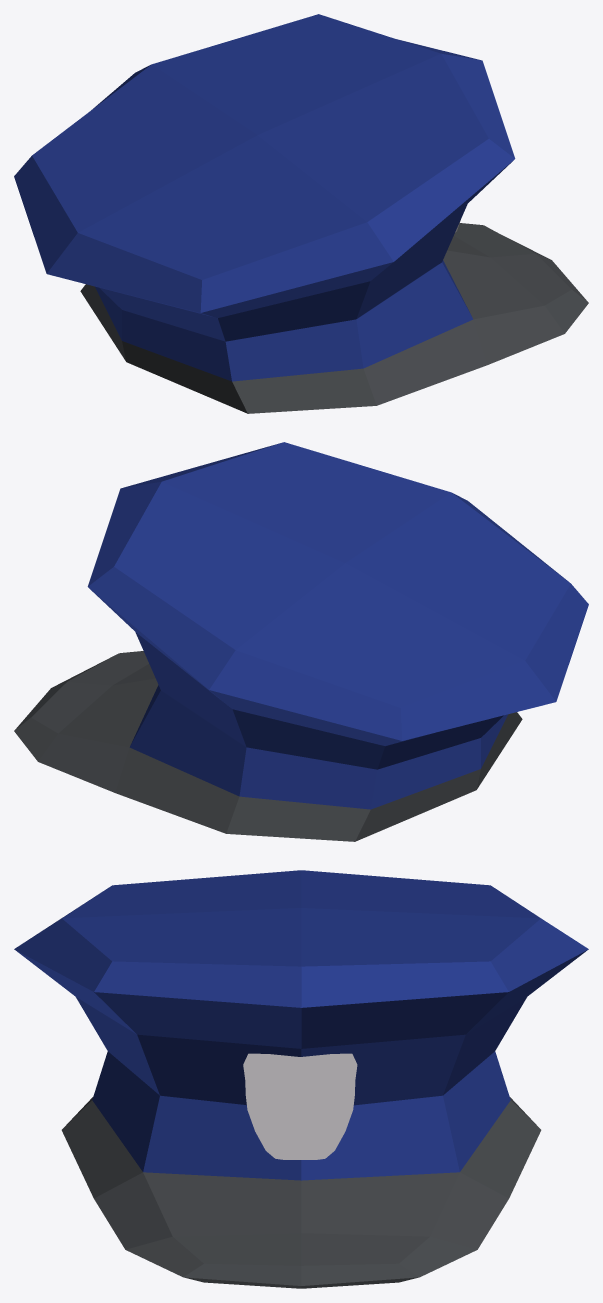
Rendered from police_hat.fbx.
The picture shows the model from 3 angles, top to bottom: view 1: azimuth 30°, elevation 25°; view 2: azimuth 150°, elevation 25°; view 3: azimuth 270°, elevation 25°; orthographic projection. The views are drawn at different scales.
Parts seen in each view (by area): view 1: Cube; view 2: Cube; view 3: Cube.
Boxes of the visible parts, x1,y1,x2,y2 form: Cube: (14,14,588,413); Cube: (14,442,588,841); Cube: (14,870,588,1288).
Bounding box in the file's own units: 320 × 151 × 284.
